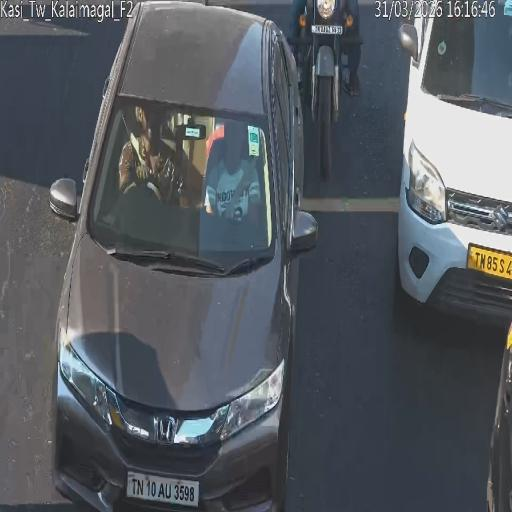person_with_seatbelt: (120, 110, 149, 178), (228, 162, 255, 220)
